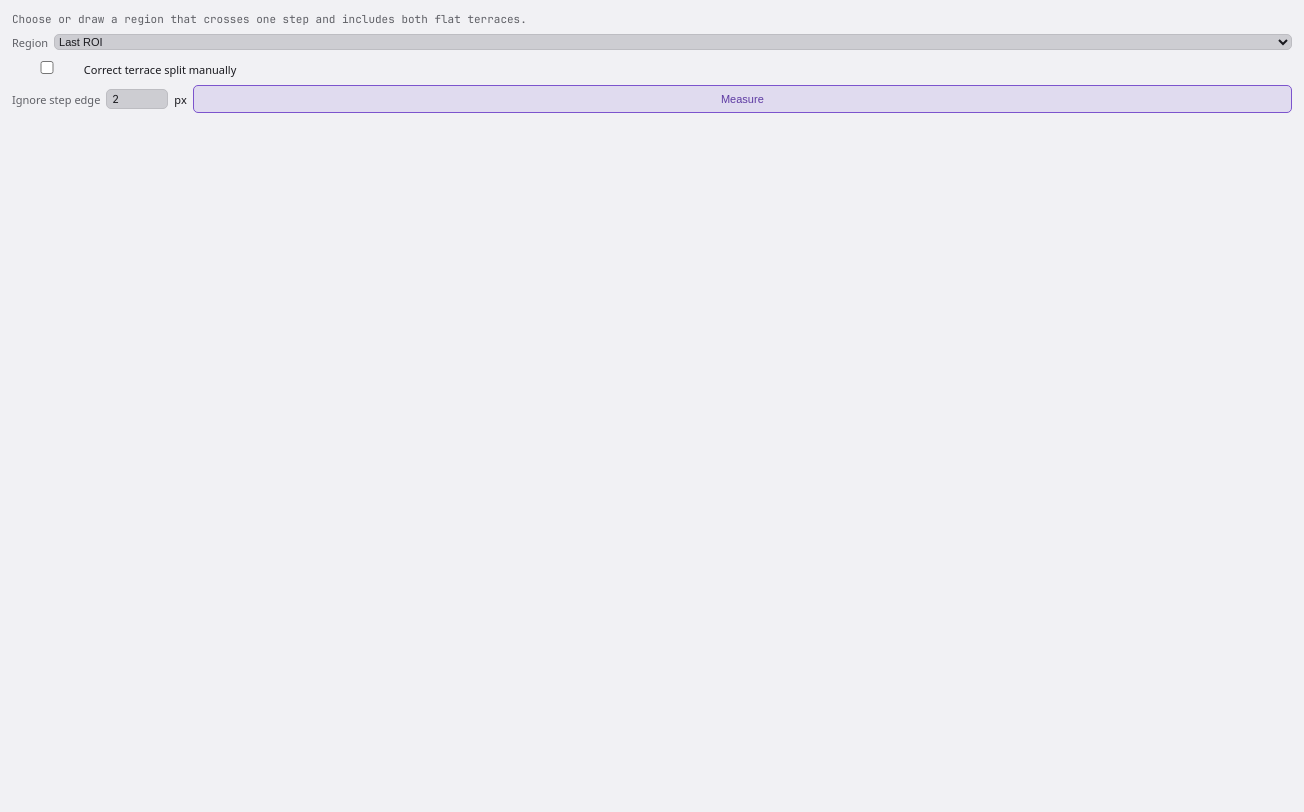
AfmStepHeightWorkshop › sends an explicit manual terrace split
Step 1. Click the checkbox labelled "Correct terrace split manually" → point(47, 68), box [16, 61, 78, 74]
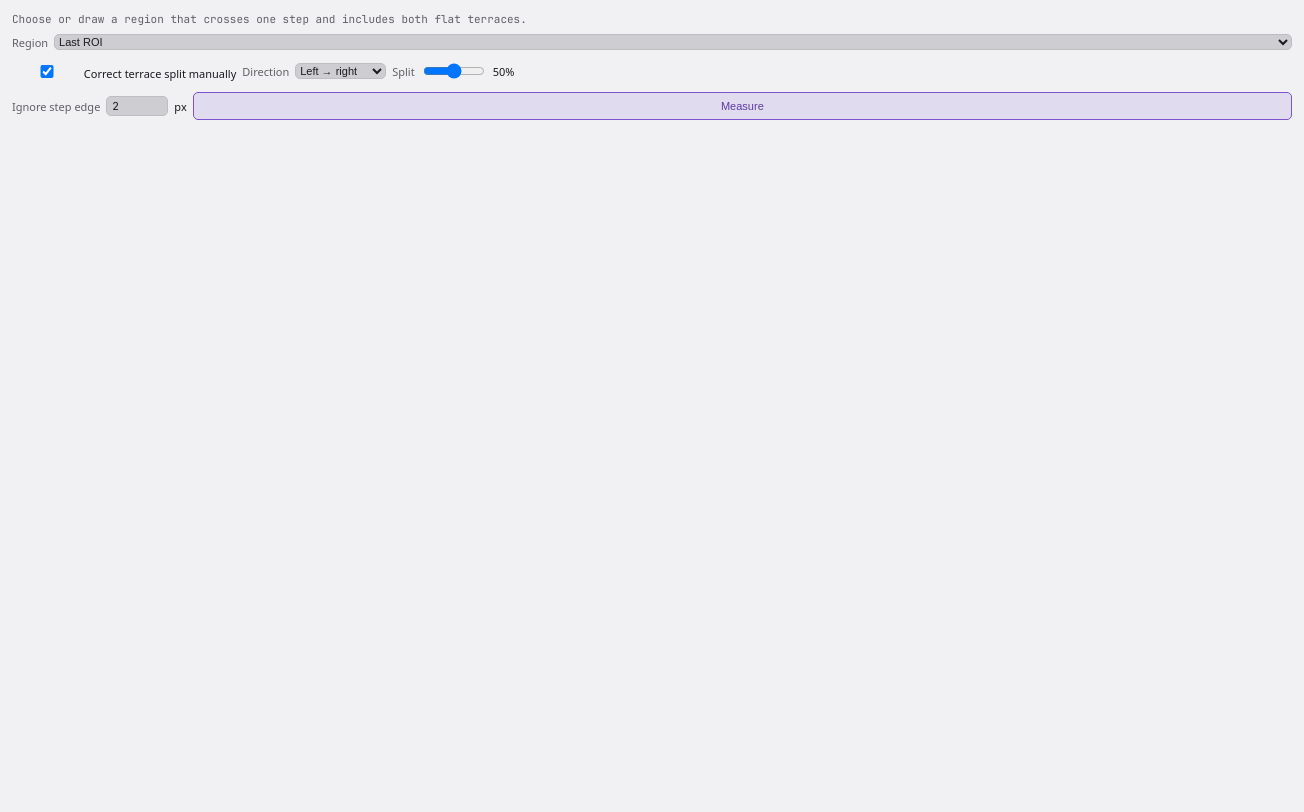
Step 2. Select "Top → bottom" in the dropdown labelled "Direction" → point(341, 71), box [295, 63, 386, 79]
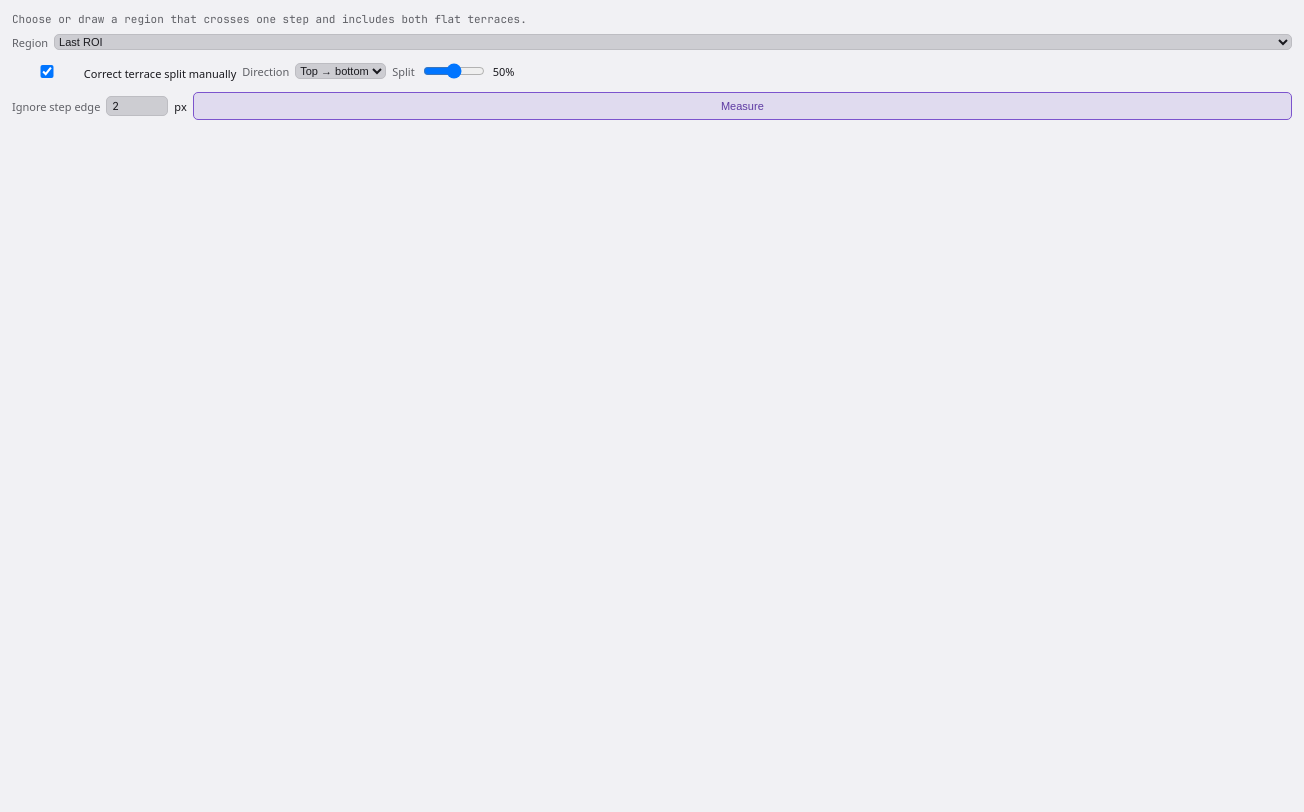
Step 3. Set the slider labelled "Split" to "60" → point(459, 71), box [423, 60, 485, 82]
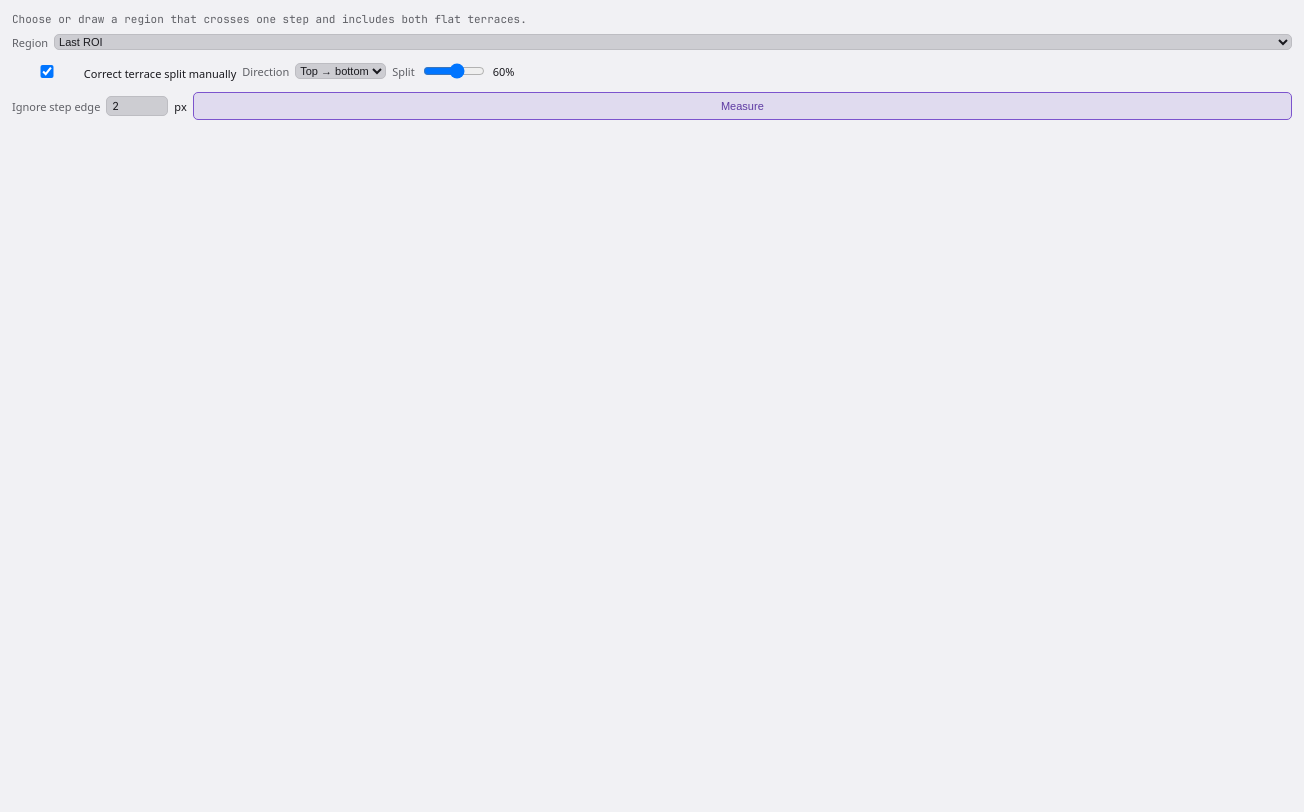
Step 4. Click the button "Measure" → point(742, 106), box [193, 92, 1292, 120]
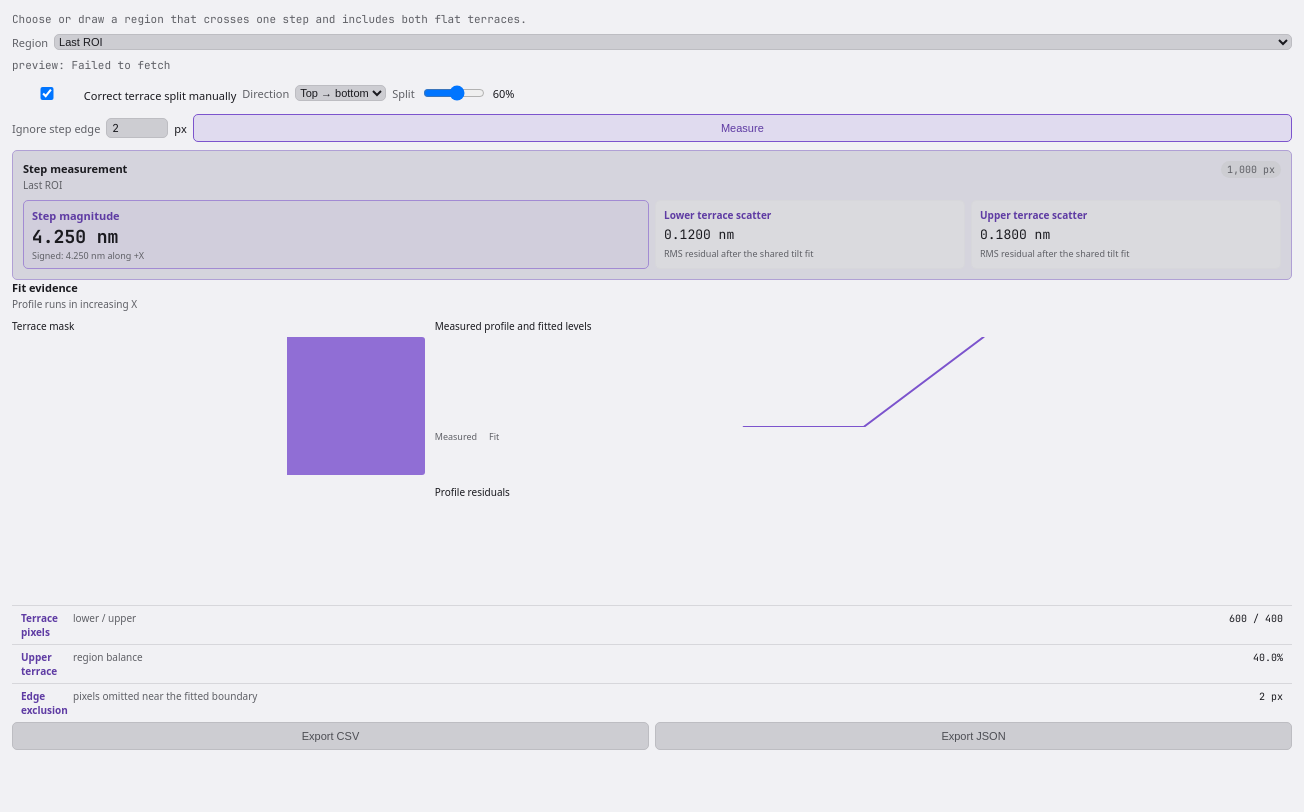
Now the text "4.250 nm" is shown, box [32, 225, 118, 248]
